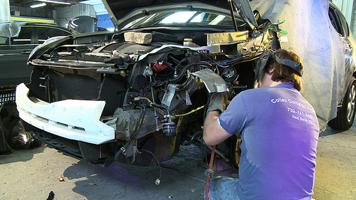person: (199, 48, 320, 200)
